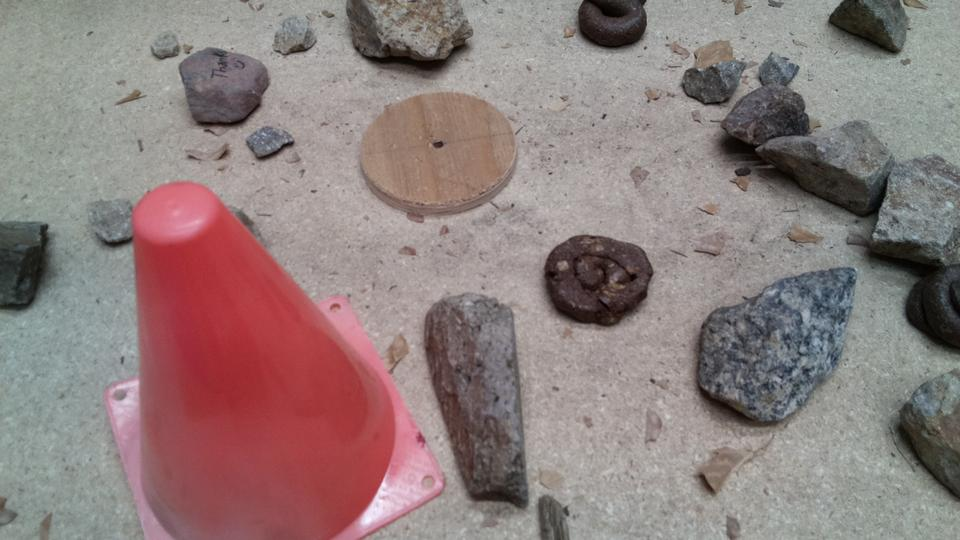poop: (542, 232, 653, 328), (903, 259, 960, 352), (576, 1, 650, 49)
